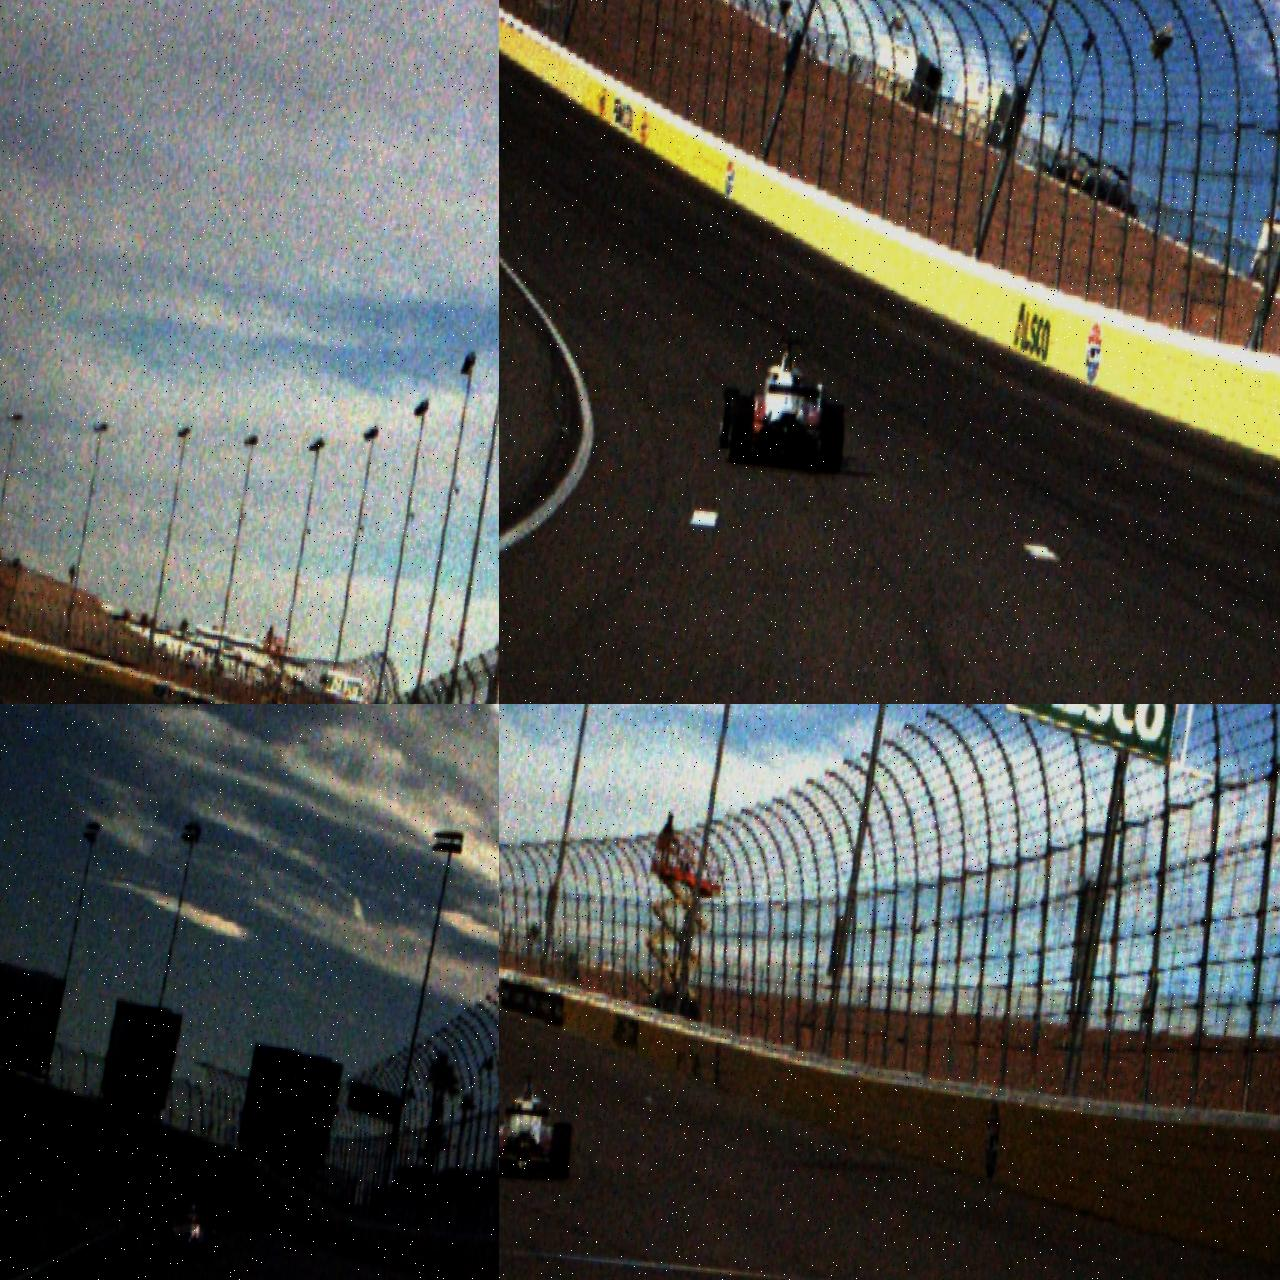AV: (716, 331, 855, 477), (499, 1069, 579, 1185), (159, 1192, 219, 1265)
Wheel: (816, 402, 847, 475), (726, 394, 755, 465), (549, 1122, 574, 1180), (717, 387, 741, 450), (159, 1224, 175, 1260), (202, 1228, 216, 1262)
